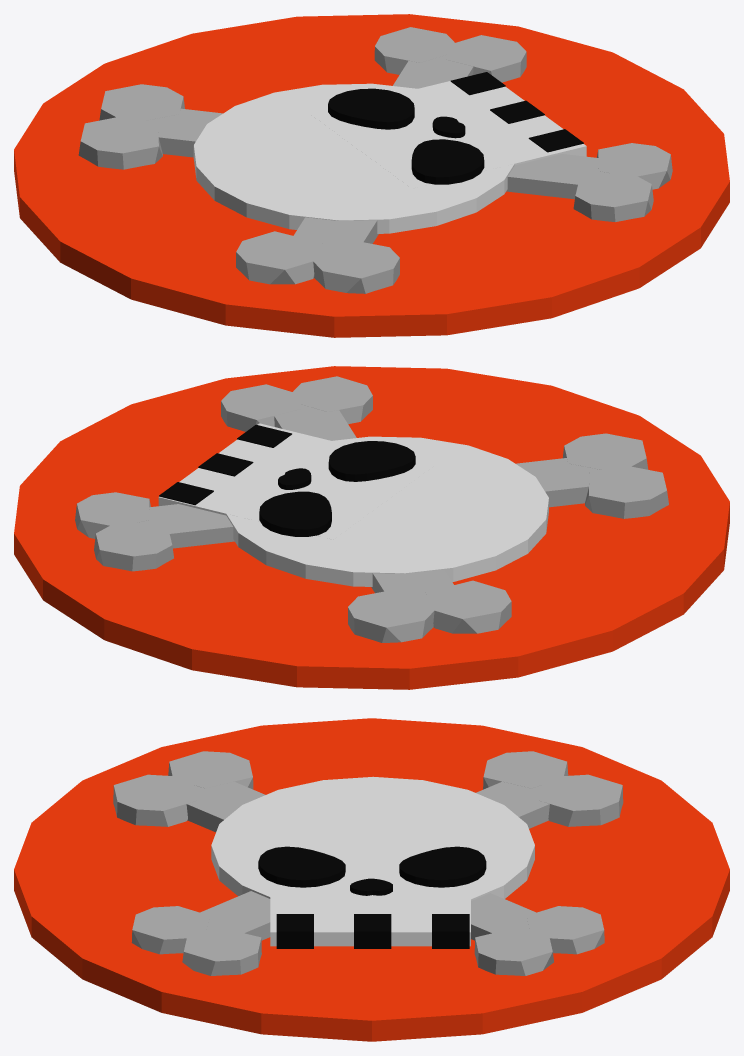
File: skull3.fbx
3 views of the same model, one above another, from view 1: azimuth 30°, elevation 25°; view 2: azimuth 150°, elevation 25°; view 3: azimuth 270°, elevation 25° (orthographic).
Parts seen in each view (by area): view 1: Cylinder.045; view 2: Cylinder.045; view 3: Cylinder.045.
Boxes of the visible parts, x1,y1,x2,y2 form: Cylinder.045: (14, 14, 729, 337); Cylinder.045: (14, 366, 729, 689); Cylinder.045: (14, 718, 729, 1041).
Size of the model in its own units: 542 by 37.65 by 542.
